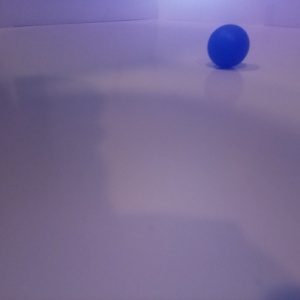dead_ball: (207, 24, 249, 67)
